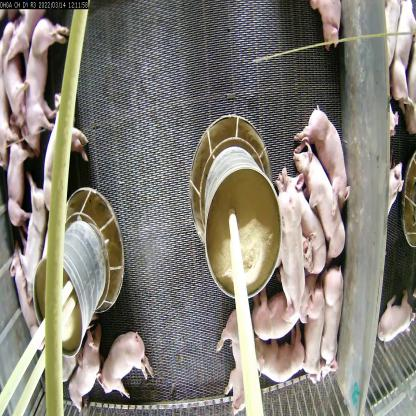Pig: (293, 97, 355, 221), (22, 13, 70, 162), (291, 137, 346, 266), (40, 87, 92, 216), (281, 163, 330, 288), (92, 326, 159, 412), (274, 162, 307, 330), (9, 239, 52, 357), (221, 304, 260, 416), (65, 321, 110, 415), (18, 168, 48, 308), (317, 261, 349, 390), (250, 324, 306, 392), (0, 18, 32, 136), (247, 291, 302, 343), (6, 126, 30, 242), (300, 282, 324, 392), (394, 0, 415, 114), (7, 4, 46, 65), (380, 0, 404, 84), (382, 288, 416, 346), (310, 1, 348, 50), (42, 346, 80, 388), (384, 163, 407, 231)
